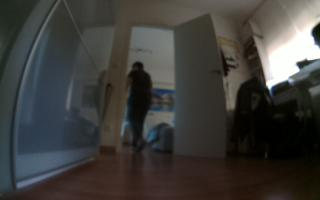person: (123, 60, 156, 153)
